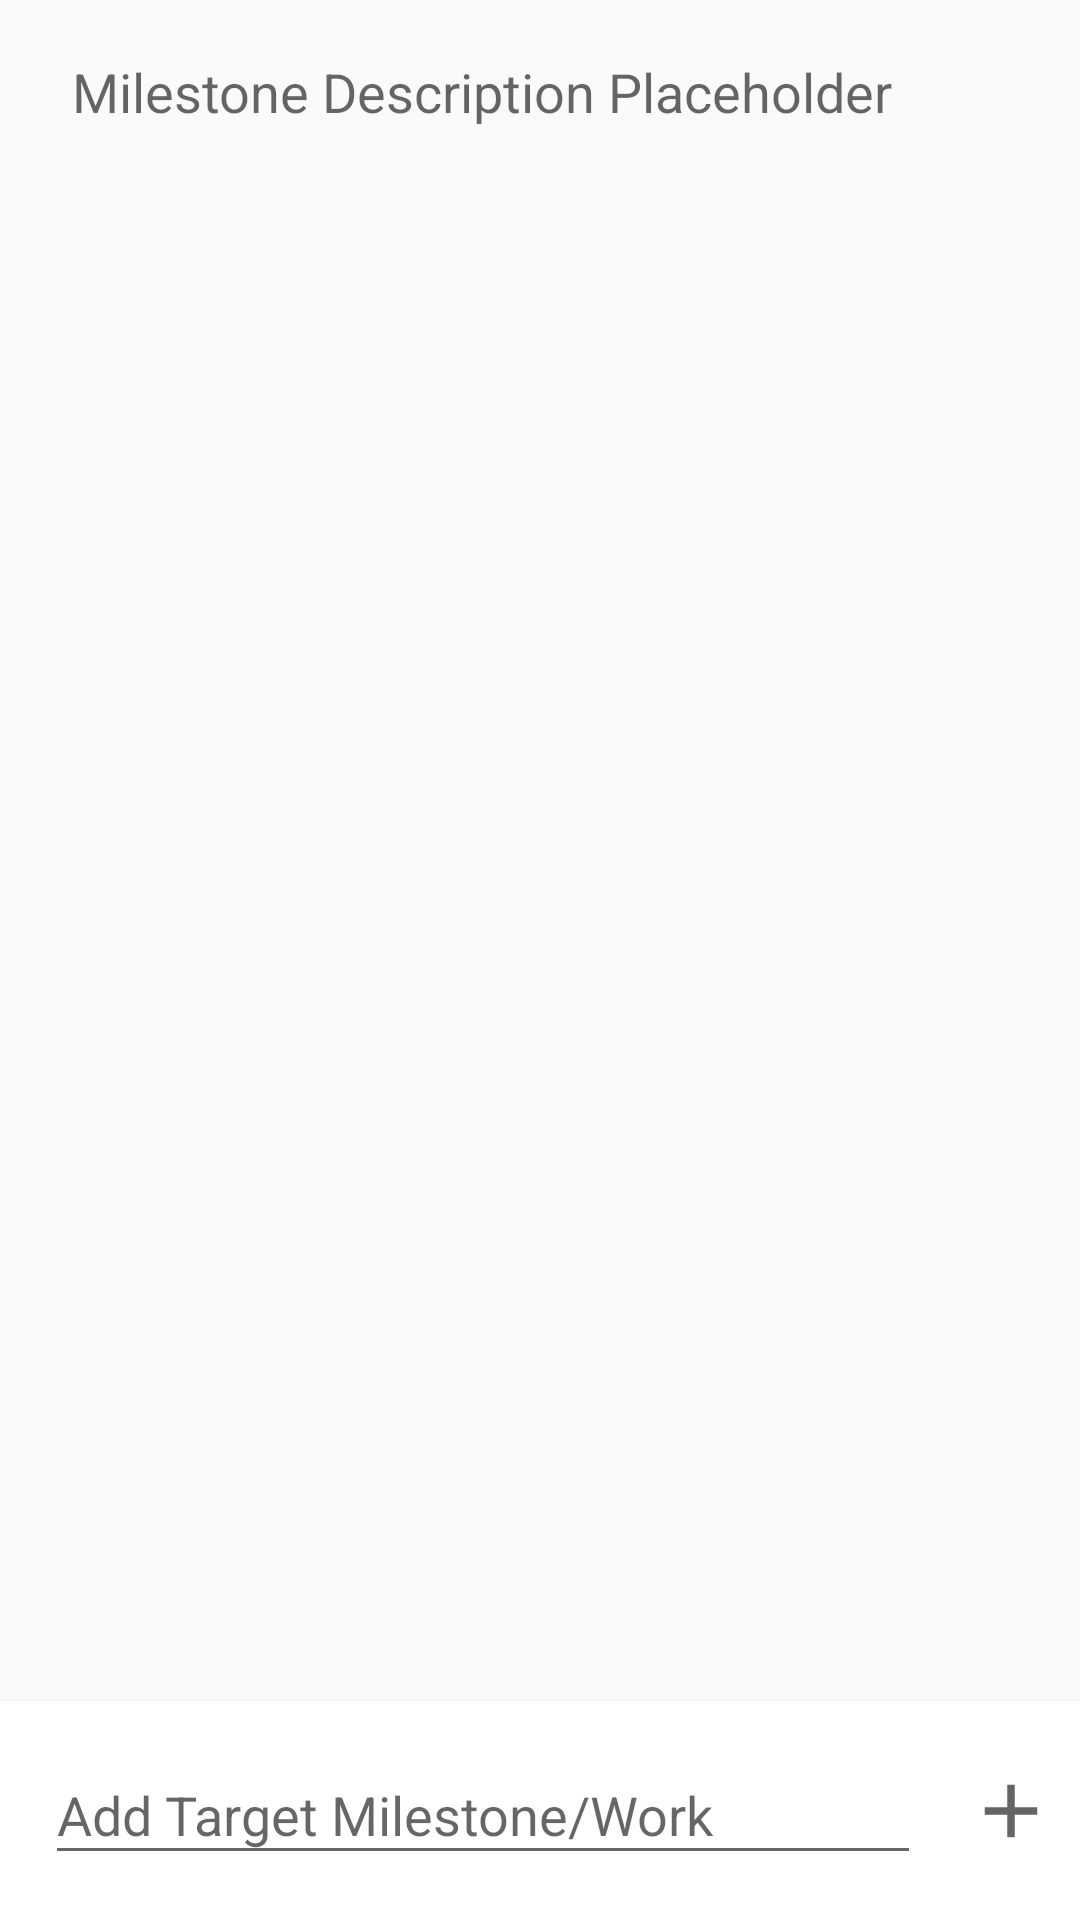

Icon click points for this 1080x1920 phone screenshot, format point (x, y):
Add Entry: point (1011, 1811)
